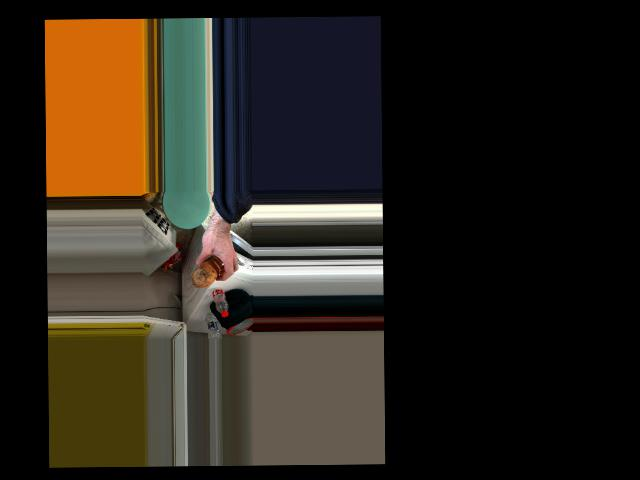sweet_potato: (193, 253, 222, 286)
